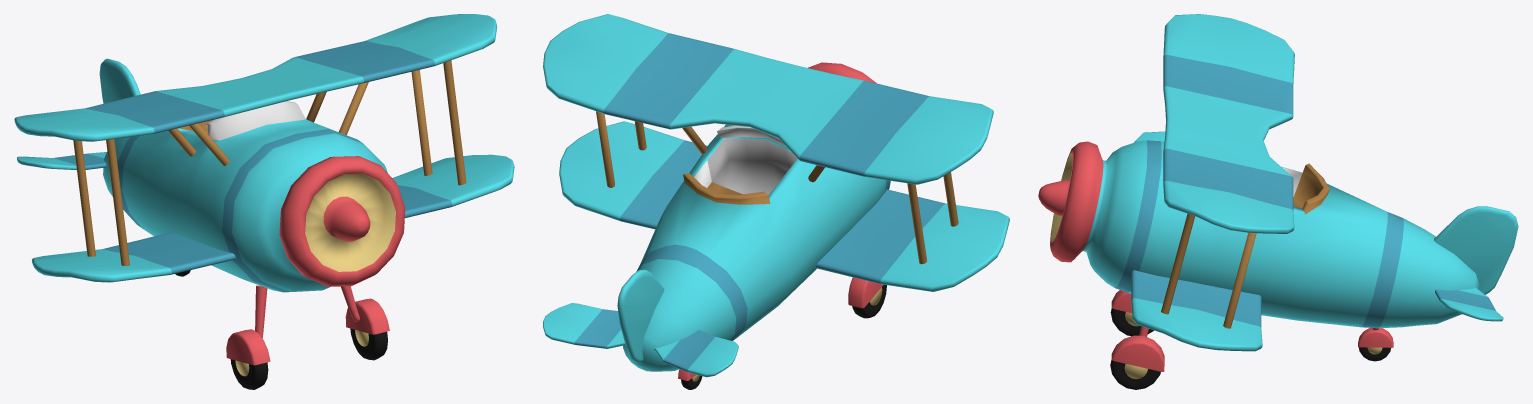
The model's file is Biplane_Plane.fbx.
3 views of the same model, side by side, from view 1: azimuth 30°, elevation 25°; view 2: azimuth 150°, elevation 25°; view 3: azimuth 270°, elevation 25° (orthographic). The views are drawn at different scales.
Parts seen in each view (by area): view 1: Cylinder.013; view 2: Cylinder.013; view 3: Cylinder.013.
Boxes of the visible parts, x1=… form: Cylinder.013: x1=14, y1=14, x2=514, y2=389; Cylinder.013: x1=543, y1=14, x2=1009, y2=389; Cylinder.013: x1=1038, y1=14, x2=1518, y2=389.
Size of the model in its own units: 546 by 310 by 534.
